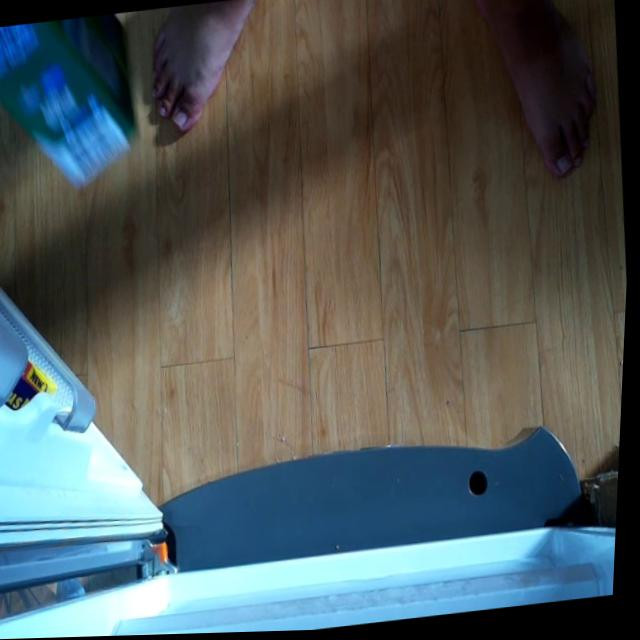milk: (0, 12, 146, 192)
